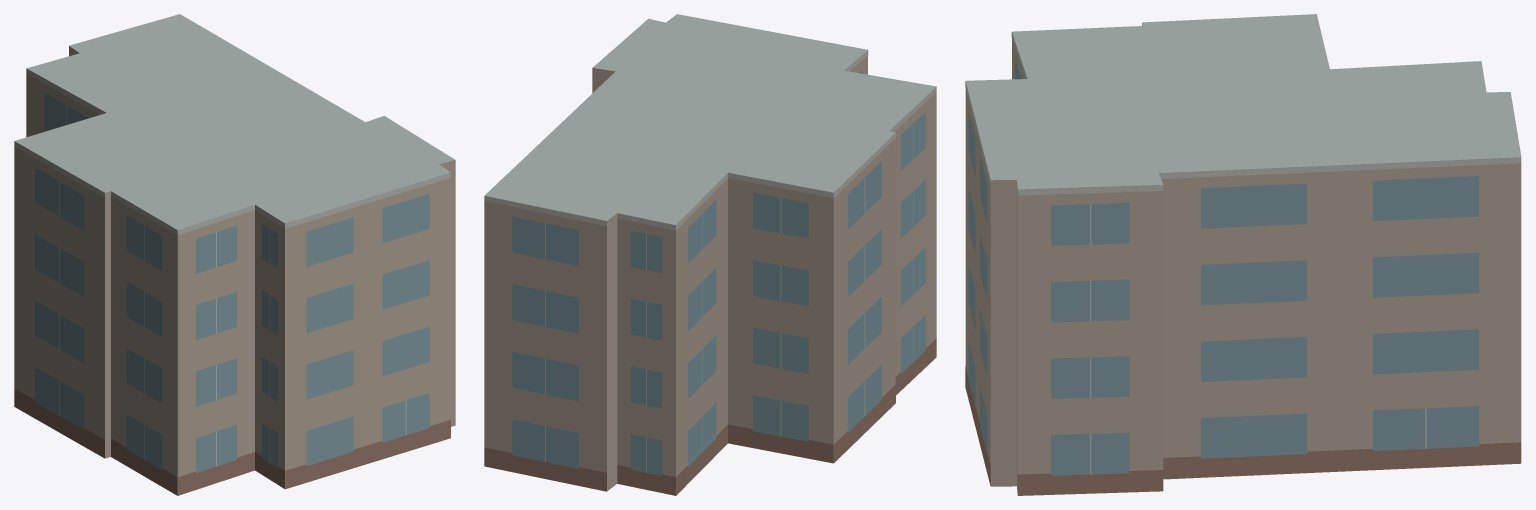
File: survey-upis-32671057.glb
3 views of the same model, side by side, from view 1: azimuth 30°, elevation 25°; view 2: azimuth 150°, elevation 25°; view 3: azimuth 270°, elevation 25° (orthographic). The views are drawn at different scales.
Parts seen in each view (by area): view 1: survey-upis-32671057.tmp; view 2: survey-upis-32671057.tmp; view 3: survey-upis-32671057.tmp.
Boxes of the visible parts, x1,y1,x2,y2 form: survey-upis-32671057.tmp: (14, 14, 455, 495); survey-upis-32671057.tmp: (484, 14, 936, 495); survey-upis-32671057.tmp: (965, 14, 1521, 495).
Size of the model in its own units: 14.98 by 12.2 by 20.07.
